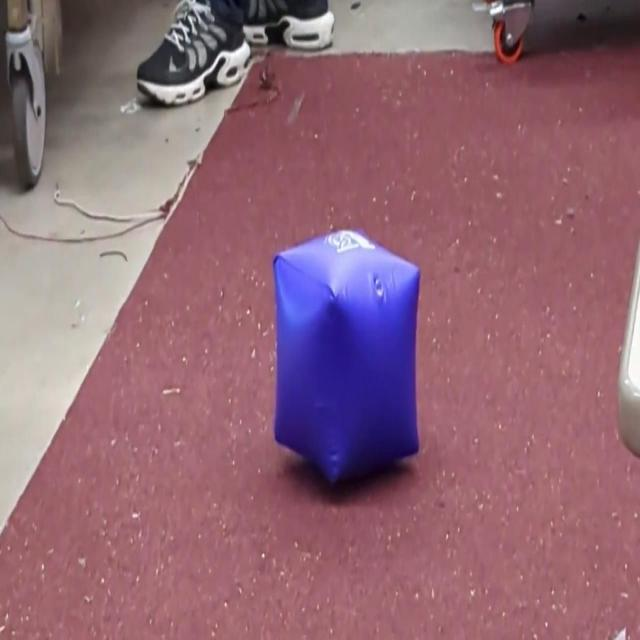frc_cube: (270, 225, 423, 491)
